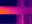Hotspot: (0, 7, 12, 14)
